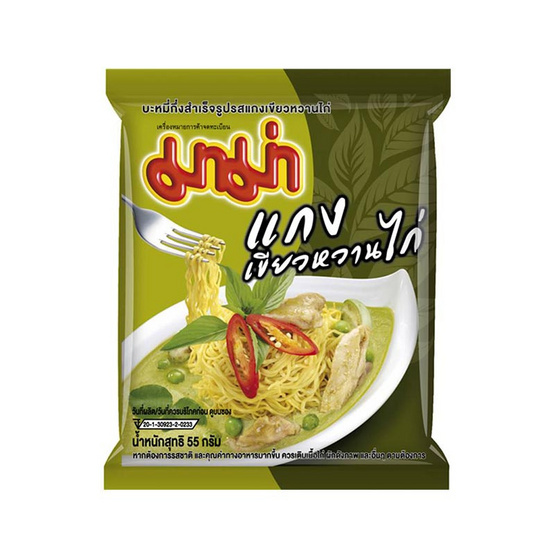Snack: (97, 61, 457, 497)
